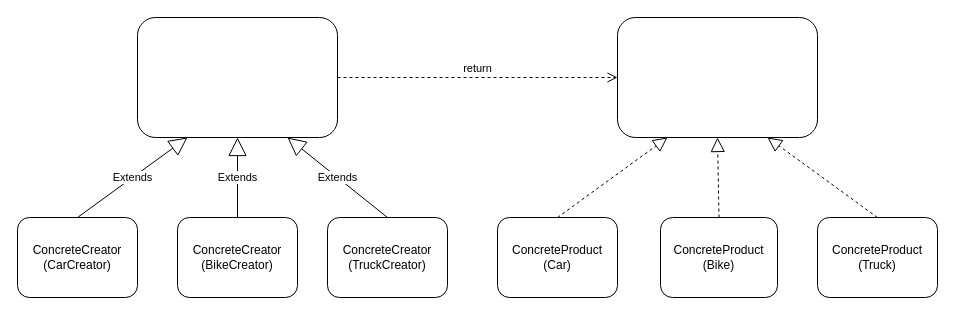
This 955x315 diagram has some shape labels left out. The centre of each missing label's shape, as x and y in pixels:
"Interface" Product (Transport) deliver();: (x=717, y=77)
Creator (TransportFactory) createTransport();: (x=237, y=77)
